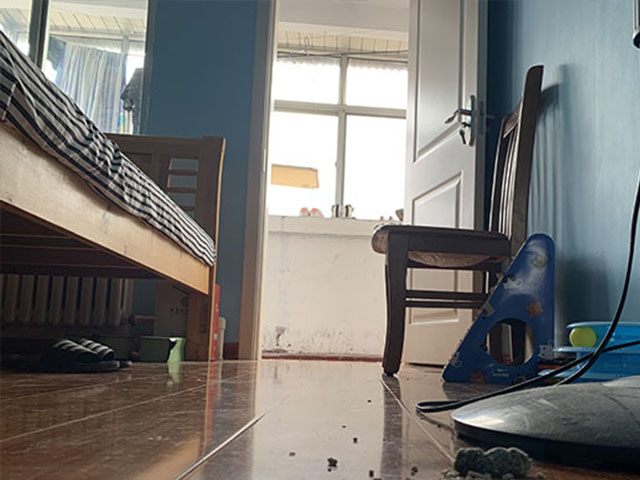bed: (1, 26, 228, 370)
feces: (453, 443, 533, 478)
slippers: (3, 336, 121, 368)
stool: (368, 63, 546, 376)
wire: (414, 331, 640, 415)
